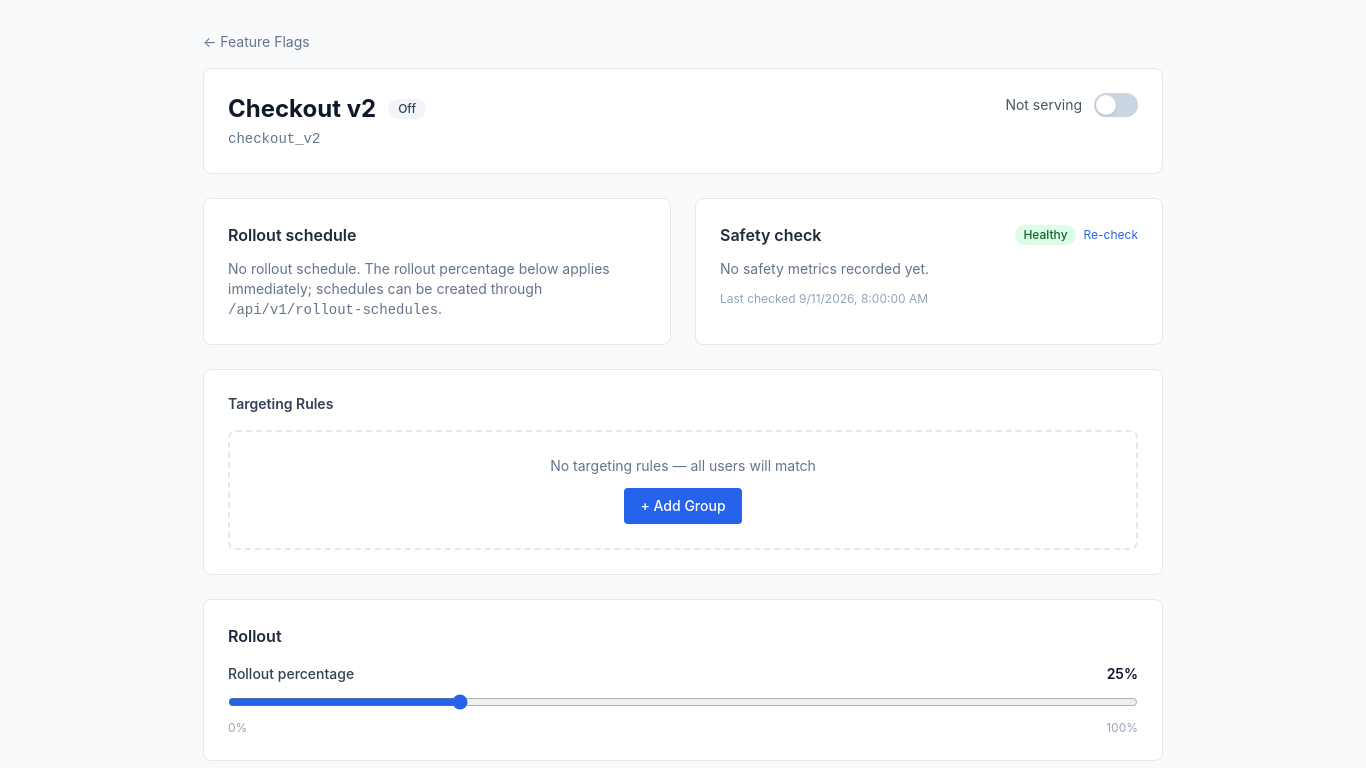
it: a save the rules stop › stops an unfinished condition before sending, in a focused alert in the section
Step 1. Click the button "+ Add Group" → {"x": 683, "y": 506}, box x1=624 y1=488 x2=742 y2=524
(page scrolled)
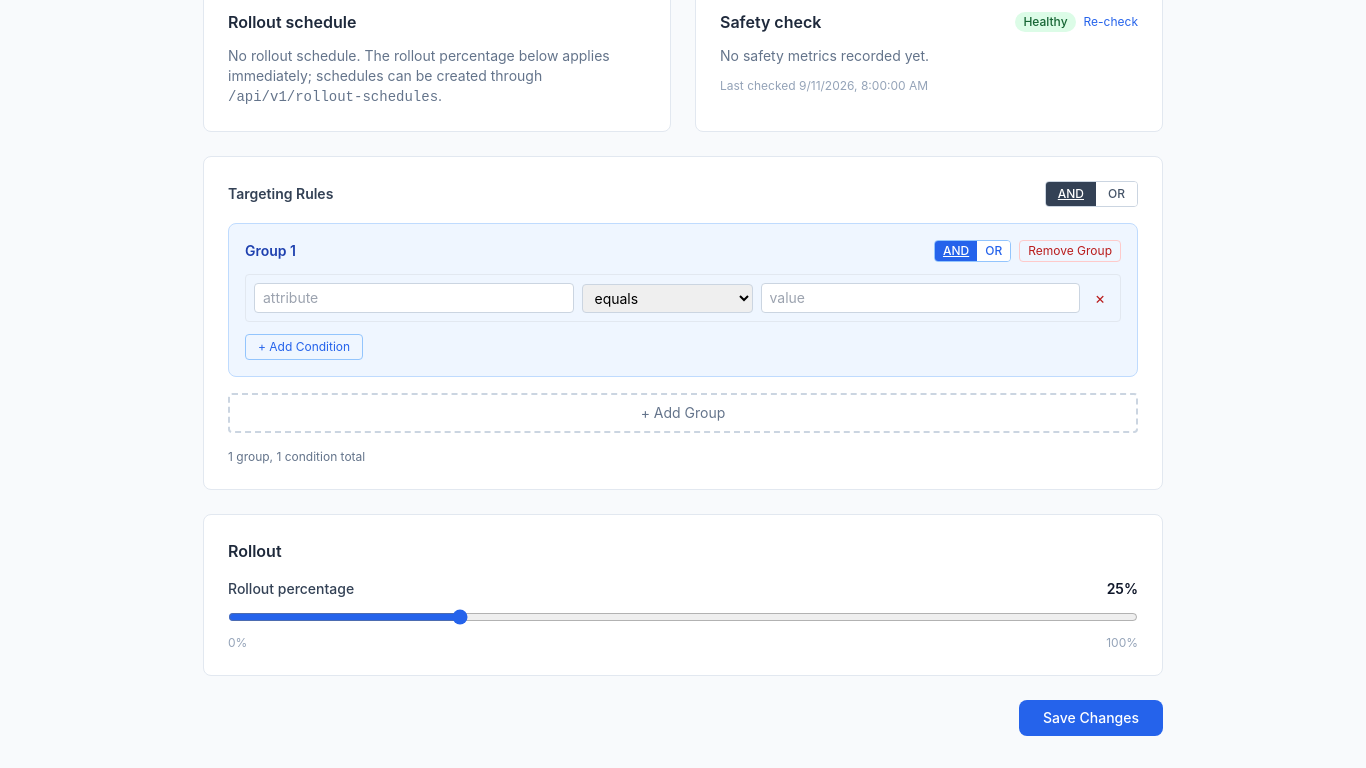
Step 2. Click the button with test id "save-flag" → {"x": 1091, "y": 718}, box x1=1019 y1=700 x2=1163 y2=736
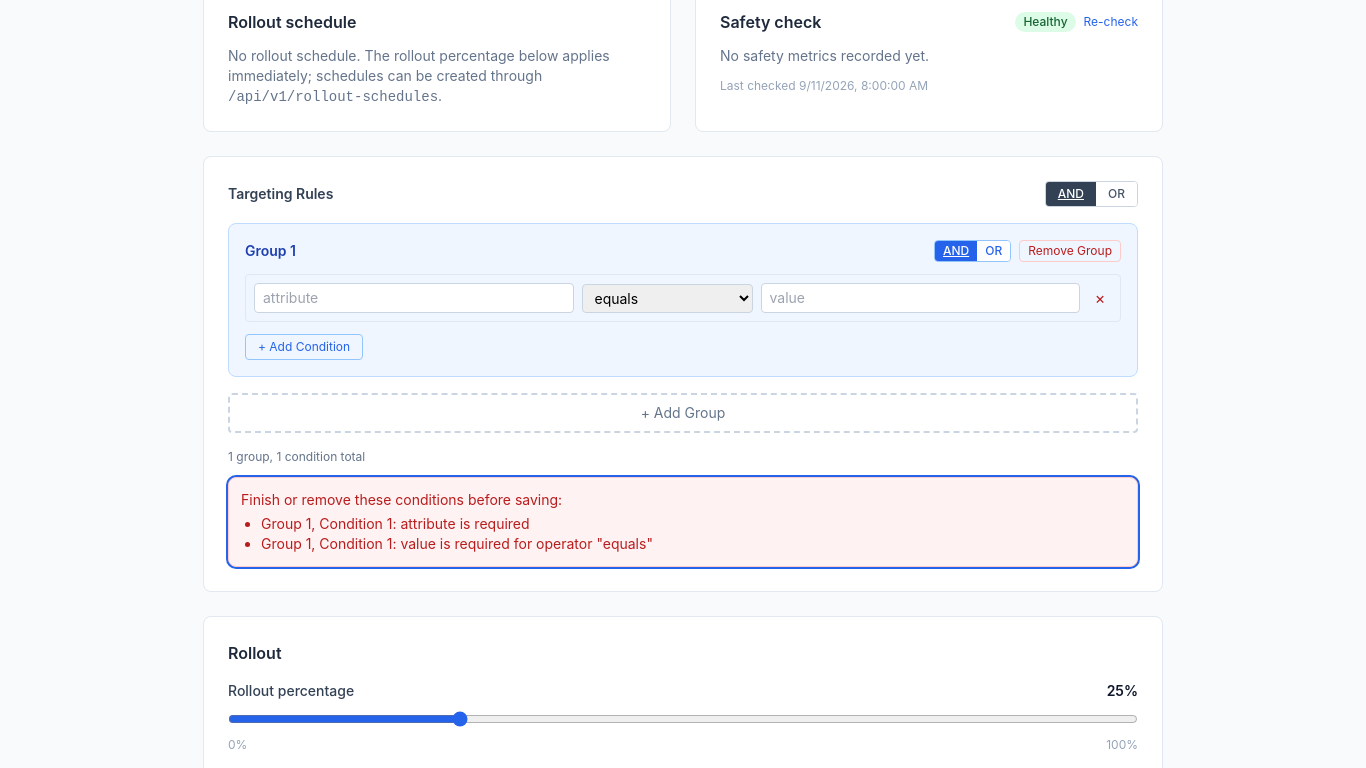
Expected: the message shows "Finish or remove these conditions before saving:", x1=241 y1=491 x2=562 y2=508
Expected: the list items read "Group 1, Condition 1: attribute is required", "Group 1, Condition 1: value is required for operator \"equals\"", in this order, x1=261 y1=515 x2=530 y2=532; x1=261 y1=535 x2=653 y2=552
